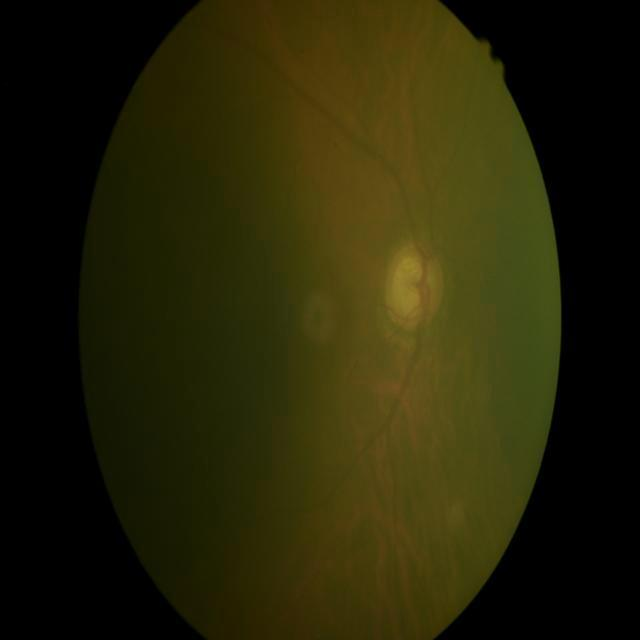cup: (389, 258, 434, 322)
disk: (382, 241, 446, 335)
